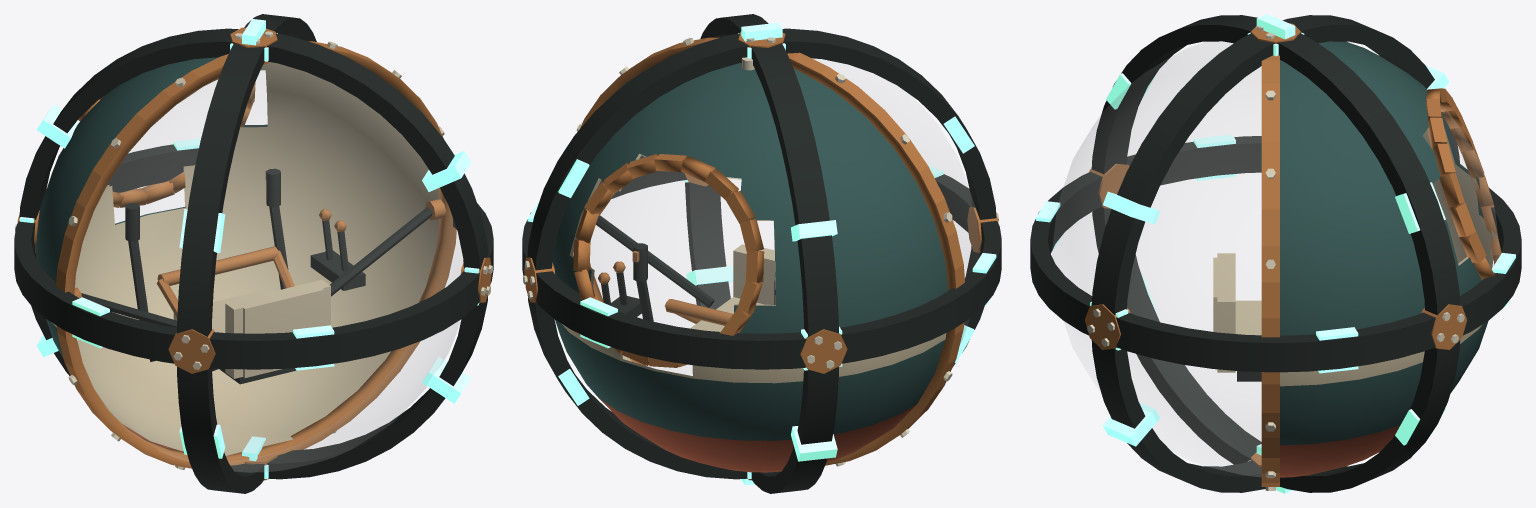
Rendered from ball_look_bell.glb.
3 renders of one model, left to right at view 1: azimuth 30°, elevation 25°; view 2: azimuth 150°, elevation 25°; view 3: azimuth 270°, elevation 25°, orthographic. The views are drawn at different scales.
Visible parts, largest first — view 1: Hull, Core, Pod; view 2: Hull, Core, Pod; view 3: Hull, Core, Pod.
Boxes of the visible parts, x1,y1,x2,y2 form: Hull: (35,41,462,472); Core: (14,14,493,493); Pod: (74,168,446,384); Hull: (552,37,979,472); Core: (522,14,1001,493); Pod: (596,215,775,331); Hull: (1052,17,1501,490); Core: (1030,14,1521,493); Pod: (1213,253,1261,381).
Bounding box in the file's own units: 1.88 × 1.96 × 1.88.
